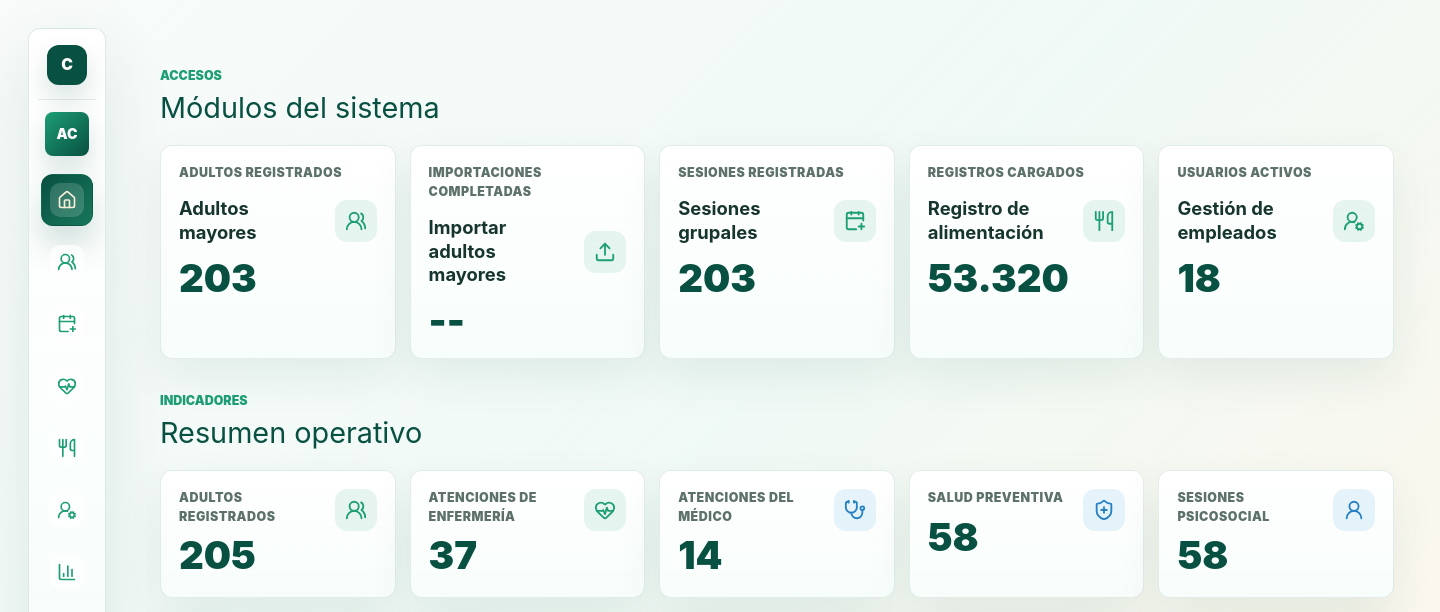
Test: App adultos mayores flow › navigates to Adultos mayores and shows the tenant scoped table
What coordinates should you click on to do the following:
click the button named "Adultos mayores"
I would click on:
 (67, 262)
Its box is [50,245,84,279].
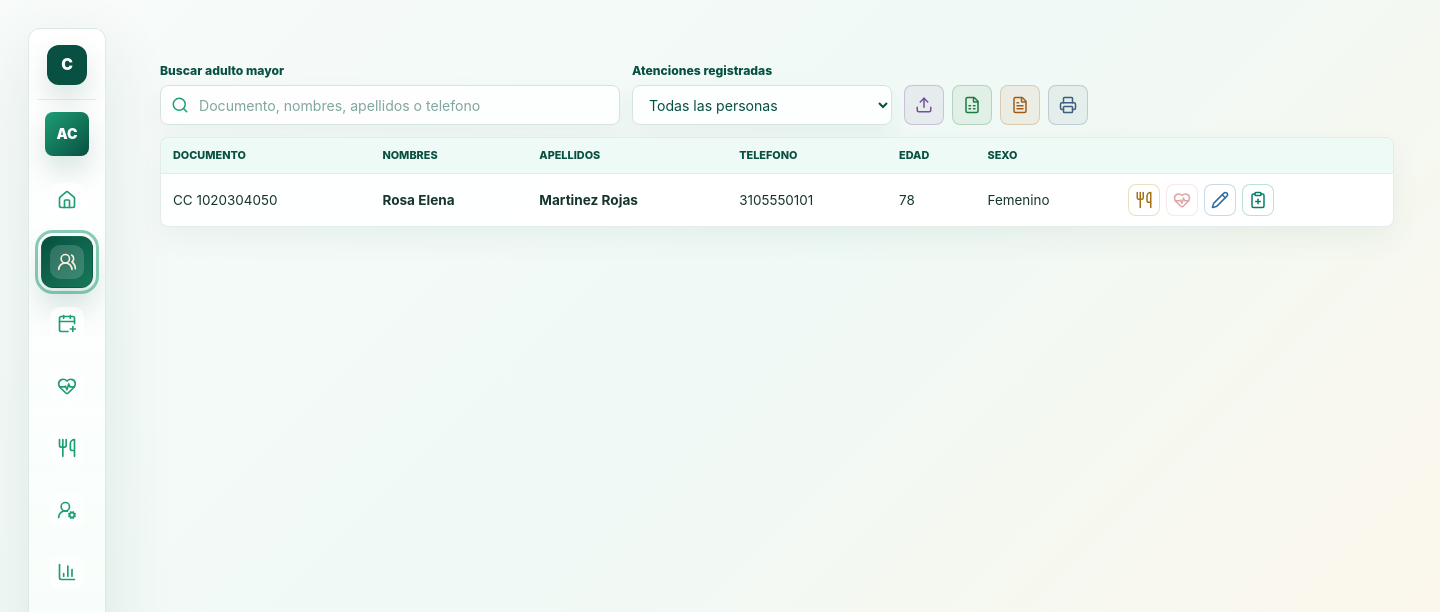
Result: the text "CC 1020304050" is shown at [161,173,370,226]
Result: the text "Rosa Elena" is shown at [382,192,455,208]
Result: the text "Martinez Rojas" is shown at [539,192,638,208]
